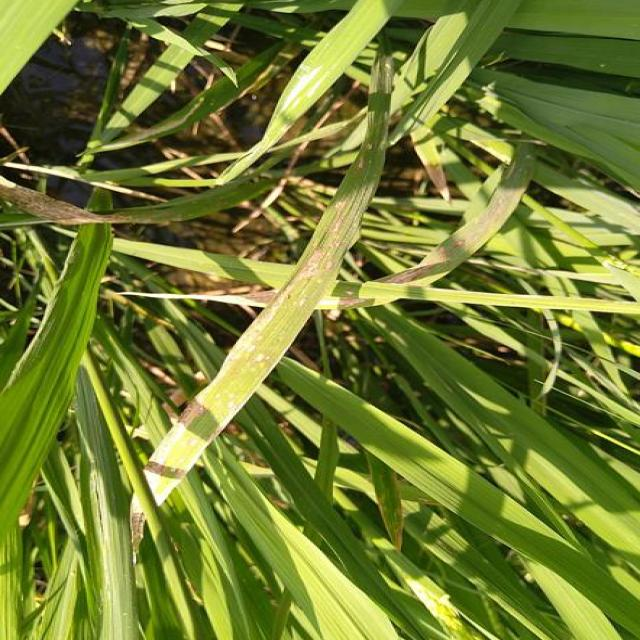Leaf Streak: (143, 52, 395, 502), (374, 138, 540, 284), (0, 175, 175, 222), (119, 291, 279, 308), (127, 492, 146, 566), (314, 296, 390, 309)
